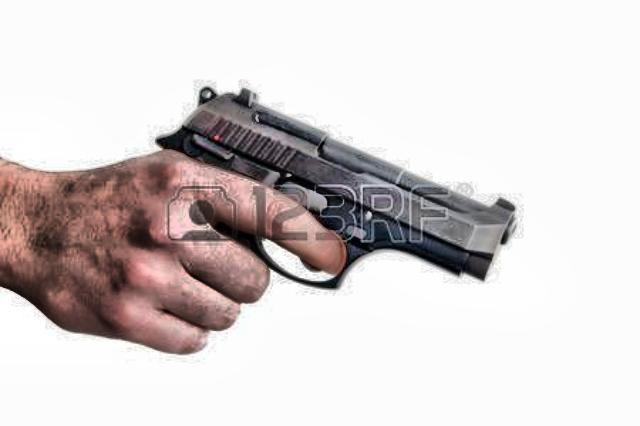pistol: (105, 78, 523, 328)
